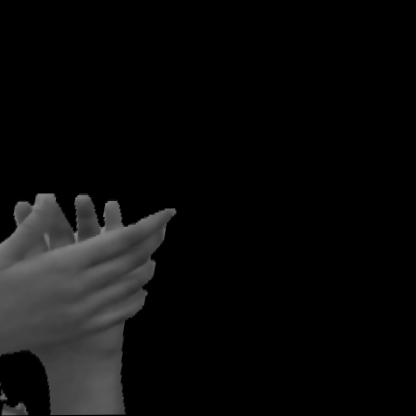clap: (0, 185, 193, 380)
